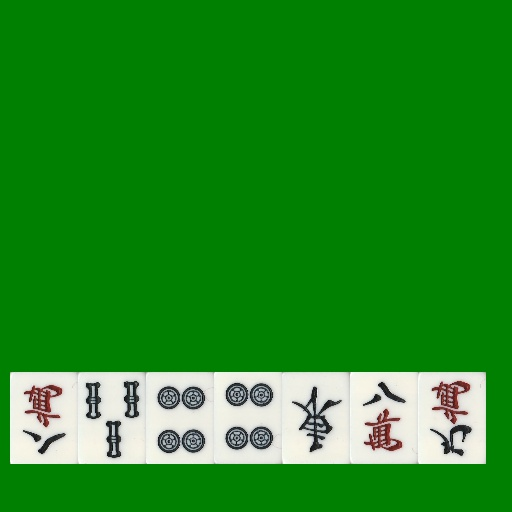3s: (78, 372, 146, 464)
4p: (146, 372, 214, 464), (214, 372, 282, 464)
8m: (10, 372, 78, 464), (350, 372, 418, 464)
9m: (418, 372, 486, 464)
east: (282, 372, 350, 464)
